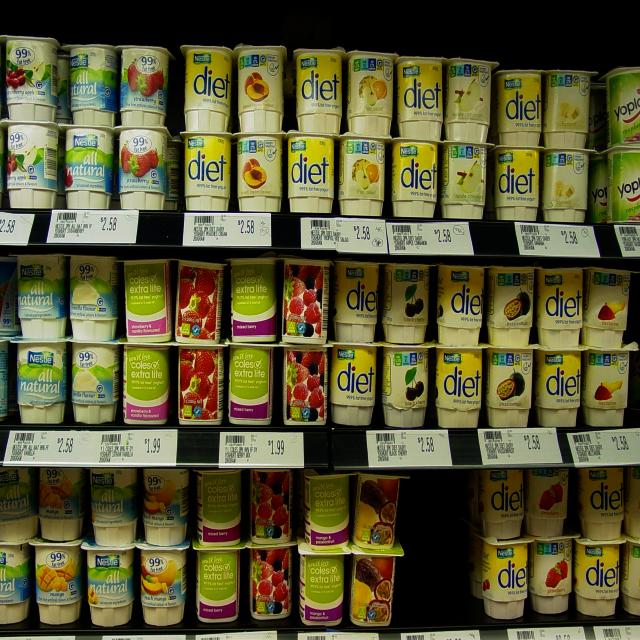empty_space: (407, 481, 468, 611)
